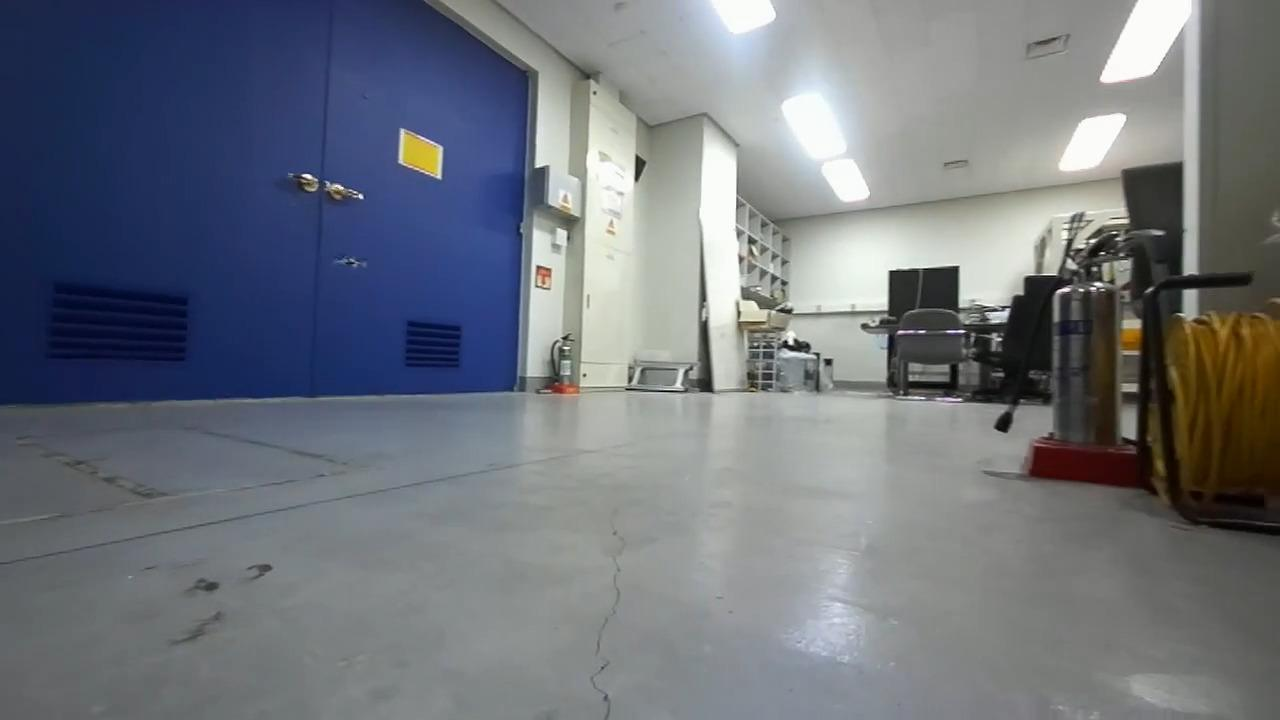crazyflie: (326, 252, 371, 273)
